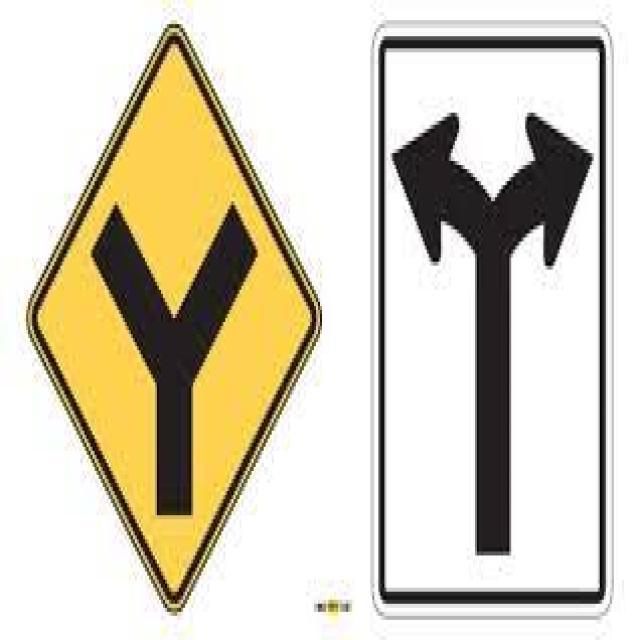y intersection: (23, 30, 318, 603)
